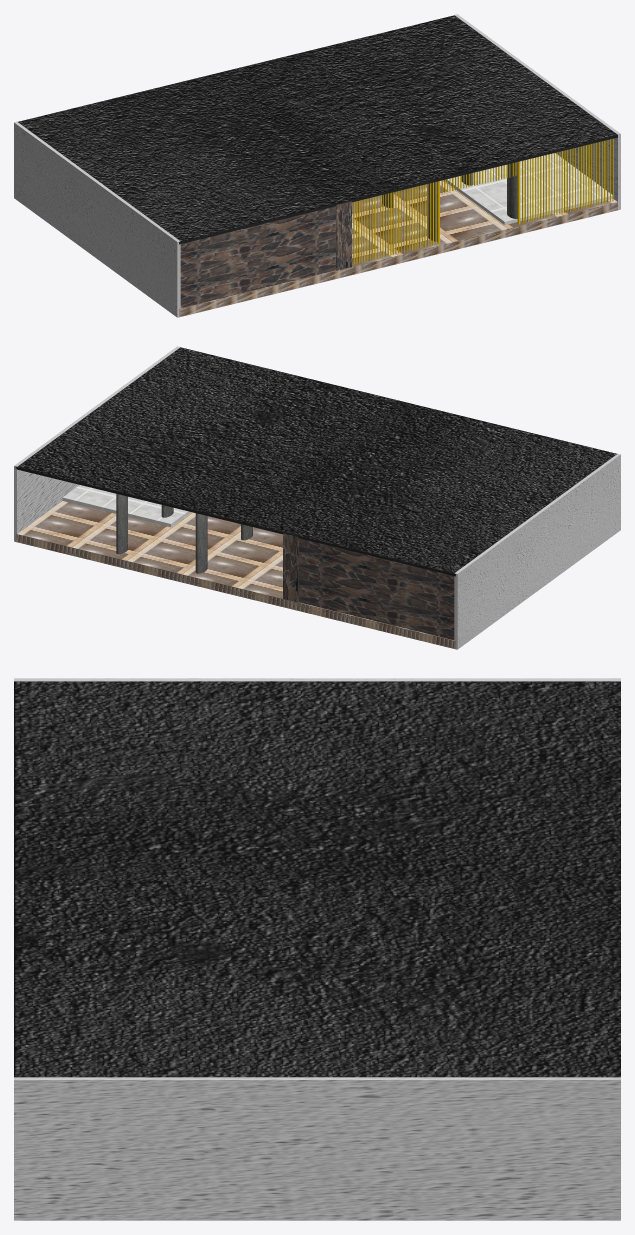
Rendered from conjunto_norte.obj.
The picture shows the model from 3 angles, top to bottom: view 1: azimuth 30°, elevation 25°; view 2: azimuth 150°, elevation 25°; view 3: azimuth 270°, elevation 25°; orthographic projection. The views are drawn at different scales.
Visible parts, largest first — view 1: Cube.007, Cube.009, piso, Cube.003, Cube.008, Cube.010, Cube.001, Cylinder.006, Cylinder; view 2: Cube.007, piso, Cube.009, Cube.004, Cube.010, Cube.008, Cube.002, Cylinder.003, Cylinder.009; view 3: Cube.007, Cube.010, Cube.009.
Part boxes in pixels (x1,y1,x2,y2): Cube.007: [18, 15, 617, 244]; Cube.009: [14, 121, 180, 317]; piso: [179, 180, 617, 317]; Cube.003: [180, 206, 335, 307]; Cube.008: [443, 153, 612, 224]; Cube.010: [454, 14, 620, 210]; Cube.001: [336, 201, 351, 270]; Cylinder.006: [507, 162, 517, 218]; Cylinder: [428, 181, 437, 241]; Cube.007: [15, 347, 616, 576]; piso: [15, 501, 455, 649]; Cube.009: [454, 453, 620, 649]; Cube.004: [299, 538, 454, 639]; Cube.010: [14, 346, 180, 541]; Cube.008: [62, 485, 191, 527]; Cube.002: [283, 533, 298, 602]; Cylinder.003: [195, 513, 207, 573]; Cylinder.009: [116, 494, 127, 554]; Cube.007: [14, 681, 620, 1077]; Cube.010: [14, 1077, 620, 1220]; Cube.009: [14, 678, 620, 681].
Bounding box in the file's own units: 56.4 × 9.2 × 36.
